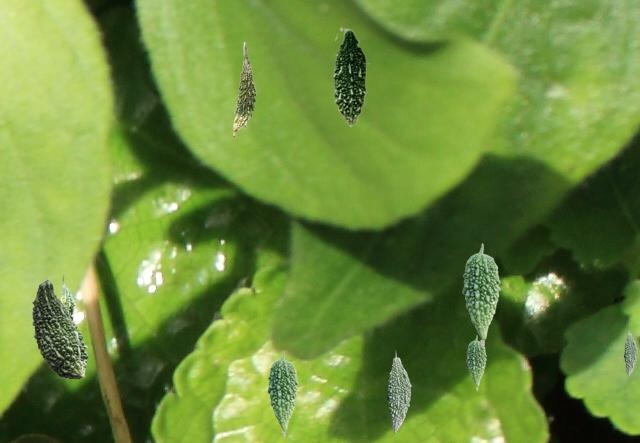ampalaya: (32, 279, 87, 378), (462, 243, 499, 347), (333, 27, 368, 126), (267, 351, 297, 437), (233, 42, 255, 137), (387, 350, 410, 432), (466, 335, 485, 390), (58, 275, 74, 320), (624, 329, 636, 375)
